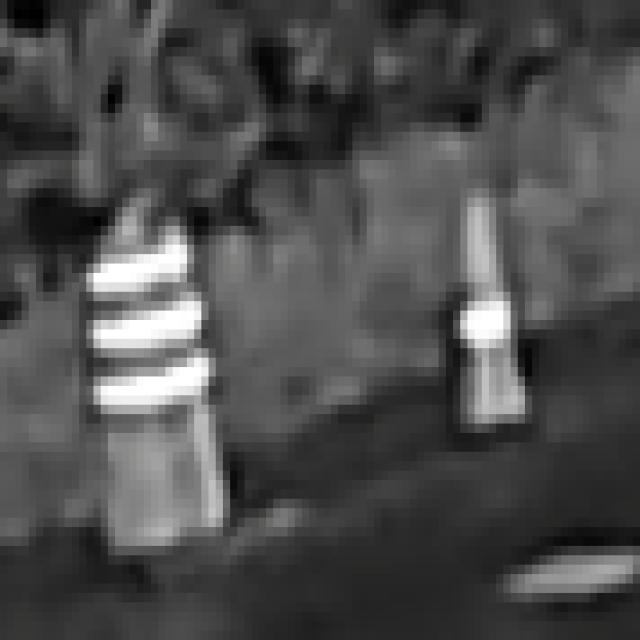big_cone: (84, 198, 228, 559)
small_cone: (444, 184, 542, 455)
